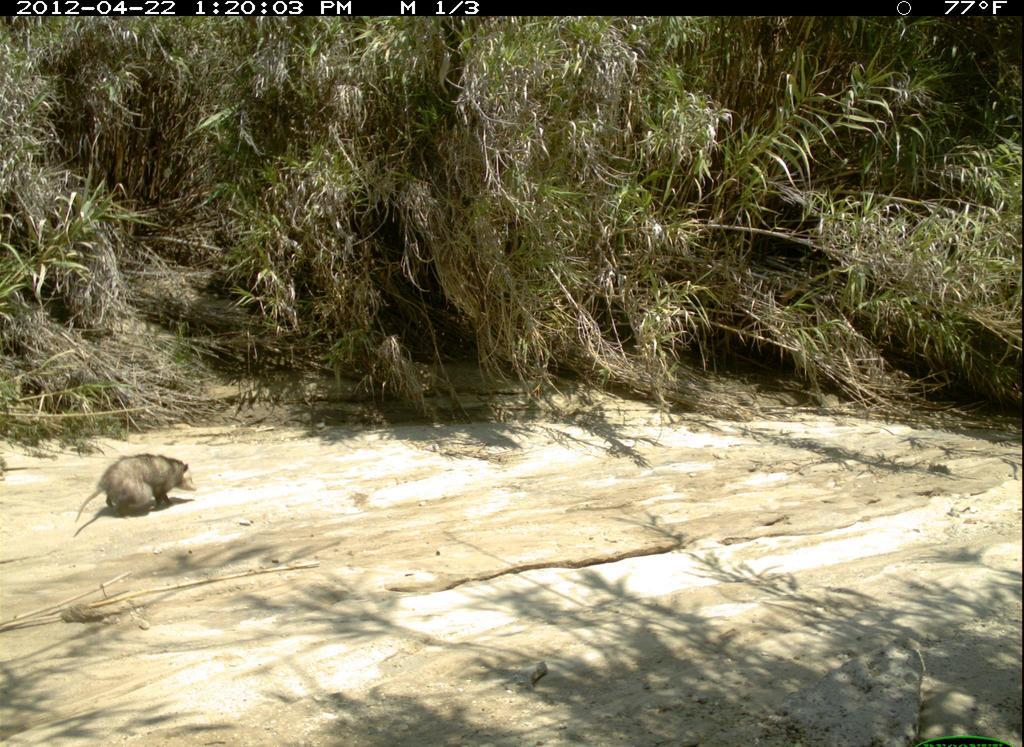opossum: (79, 447, 213, 541)
